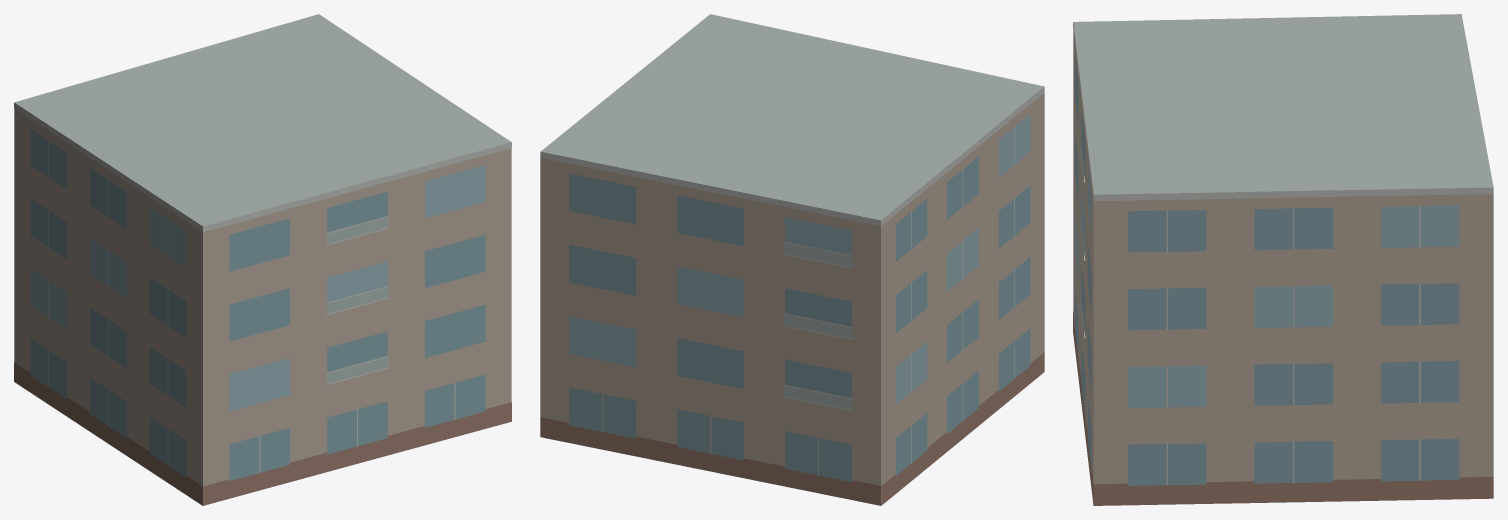
The model's file is survey-upis-32933589.glb.
3 views of the same model, side by side, from view 1: azimuth 30°, elevation 25°; view 2: azimuth 150°, elevation 25°; view 3: azimuth 270°, elevation 25° (orthographic). The views are drawn at different scales.
Parts seen in each view (by area): view 1: survey-upis-32933589.tmp; view 2: survey-upis-32933589.tmp; view 3: survey-upis-32933589.tmp.
Boxes of the visible parts, left/top/right/bottom form: survey-upis-32933589.tmp: left=14, top=14, right=511, bottom=505; survey-upis-32933589.tmp: left=540, top=14, right=1044, bottom=505; survey-upis-32933589.tmp: left=1073, top=14, right=1493, bottom=505.
Size of the model in its own units: 14.45 by 11.6 by 14.21.
